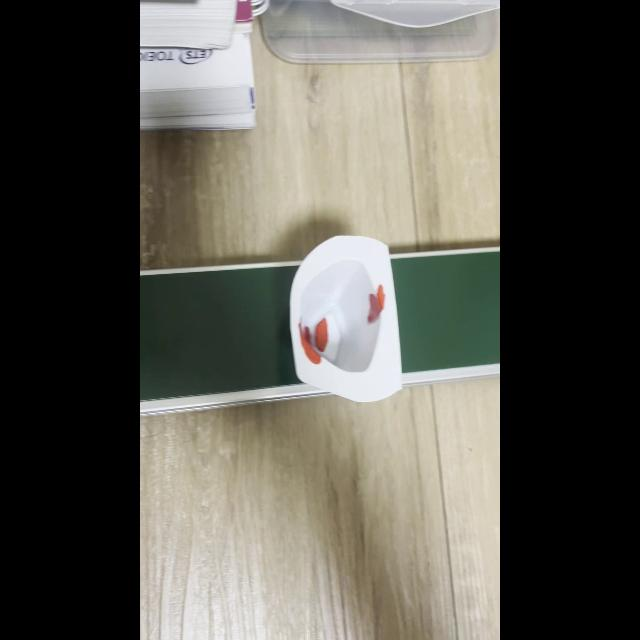dirty: (289, 260, 401, 392)
